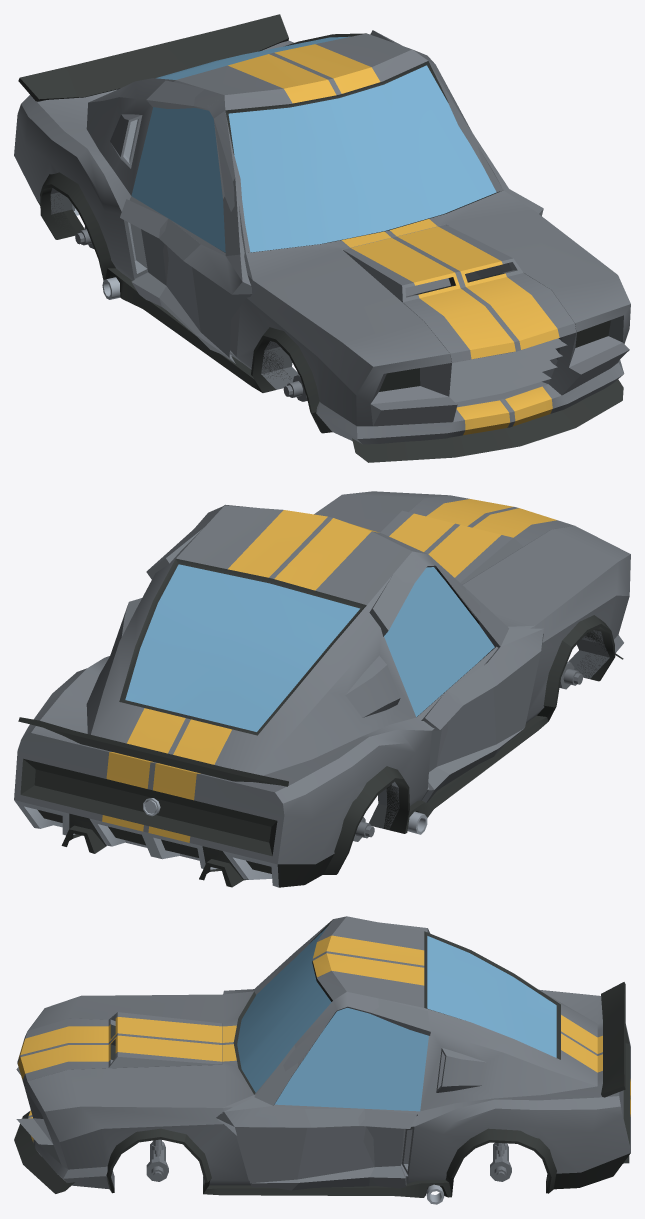
Rendered from macchina_grigia_a1.fbx.
The picture shows the model from 3 angles, top to bottom: view 1: azimuth 30°, elevation 25°; view 2: azimuth 150°, elevation 25°; view 3: azimuth 270°, elevation 25°; orthographic projection. The views are drawn at different scales.
Parts seen in each view (by area): view 1: scocca_grigia_1, cofano_1, porta_rotta_dx_1, porta_nuova_dx_1, porta_rotta_sx_2; view 2: scocca_grigia_1, porta_rotta_dx_1, porta_nuova_dx_1, cofano_1, porta_rotta_sx_2; view 3: scocca_grigia_1, porta_rotta_sx_2, porta_nuova_sx_2, cofano_1, porta_rotta_dx_1.
Boxes of the visible parts, box(x1,y1,x2,y2) form: scocca_grigia_1: box(14, 14, 630, 462); cofano_1: box(343, 224, 576, 362); porta_rotta_dx_1: box(120, 80, 252, 363); porta_nuova_dx_1: box(129, 80, 252, 361); porta_rotta_sx_2: box(370, 30, 543, 215); scocca_grigia_1: box(14, 491, 630, 887); porta_rotta_dx_1: box(369, 552, 543, 802); porta_nuova_dx_1: box(367, 551, 535, 800); cofano_1: box(380, 495, 574, 584); porta_rotta_sx_2: box(146, 527, 204, 579); scocca_grigia_1: box(14, 916, 630, 1204); porta_rotta_sx_2: box(216, 992, 430, 1190); porta_nuova_sx_2: box(222, 992, 428, 1186); cofano_1: box(17, 1012, 221, 1086); porta_rotta_dx_1: box(223, 921, 430, 994).
Bounding box in the file's own units: 215 × 146 × 426.
Materials: 1 (1 with a texture image).
